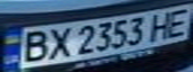2: (72, 21, 96, 56)
3: (124, 15, 151, 46), (93, 19, 115, 52)
5: (109, 17, 133, 50)
B: (15, 28, 54, 64)
E: (160, 6, 193, 38)
H: (145, 10, 175, 42)
X: (42, 25, 75, 61)
